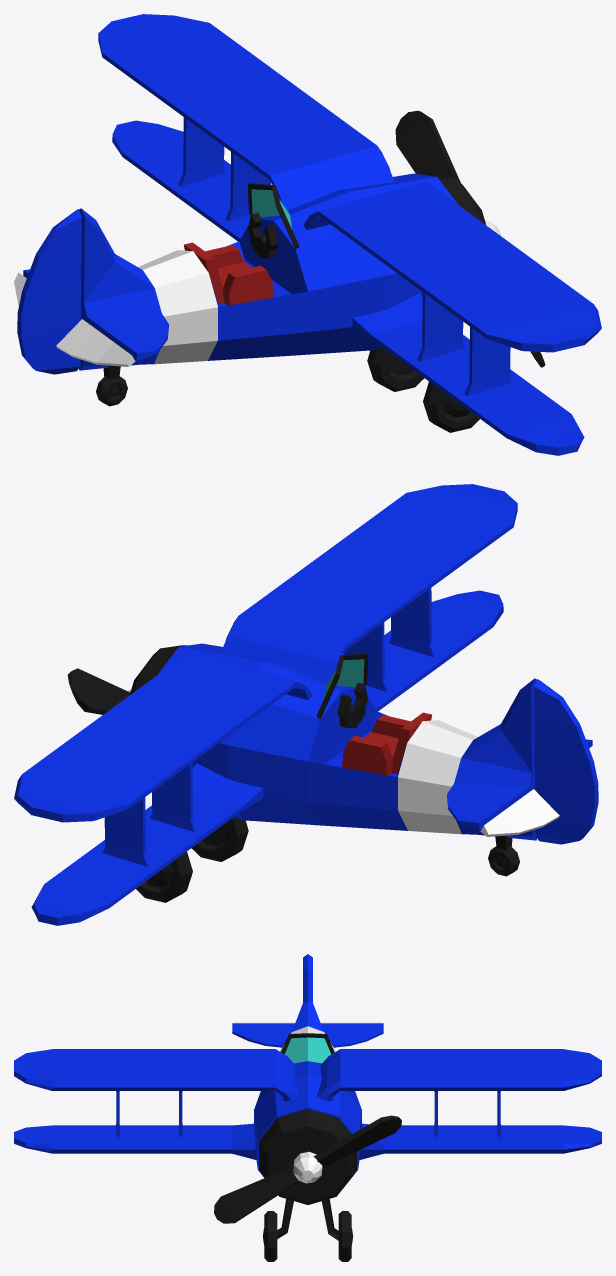
File: Ucak.fbx
The picture shows the model from 3 angles, top to bottom: view 1: azimuth 30°, elevation 25°; view 2: azimuth 150°, elevation 25°; view 3: azimuth 270°, elevation 25°; orthographic projection. The views are drawn at different scales.
Parts seen in each view (by area): view 1: Ucak1, Ucak_Pervane; view 2: Ucak1, Ucak_Pervane; view 3: Ucak1, Ucak_Pervane.
Part boxes in pixels (x1=…): Ucak1: x1=14, y1=14, x2=601, y2=455; Ucak_Pervane: x1=395, y1=110, x2=545, y2=367; Ucak1: x1=14, y1=484, x2=601, y2=925; Ucak_Pervane: x1=67, y1=668, x2=130, y2=714; Ucak1: x1=14, y1=954, x2=601, y2=1261; Ucak_Pervane: x1=214, y1=1115, x2=401, y2=1223.
Bounding box in the file's own units: 277 × 158 × 443.
